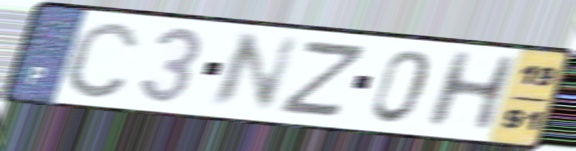0: (369, 48, 435, 125)
3: (136, 24, 205, 106)
C: (61, 18, 143, 101)
H: (418, 48, 523, 132)
N: (202, 31, 304, 112)
Z: (273, 40, 372, 121)
